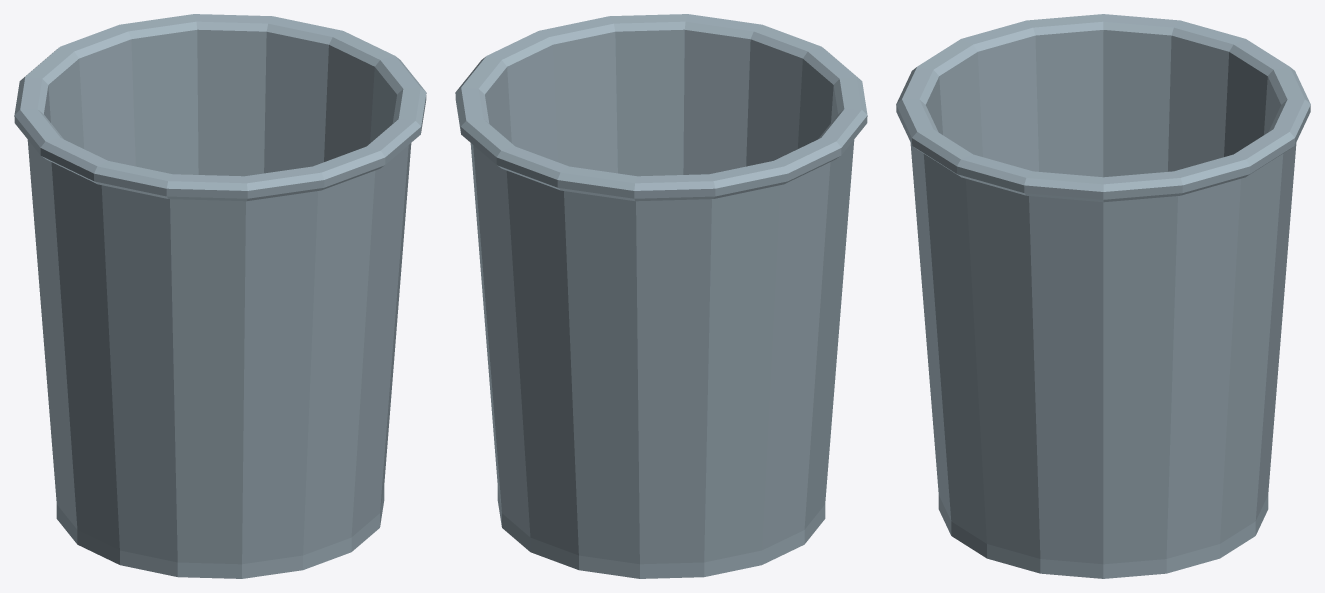
File: cup.fbx
The picture shows the model from 3 angles, left to right: view 1: azimuth 30°, elevation 25°; view 2: azimuth 150°, elevation 25°; view 3: azimuth 270°, elevation 25°; orthographic projection.
Parts seen in each view (by area): view 1: Cup; view 2: Cup; view 3: Cup.
Boxes of the visible parts, x1=… form: Cup: x1=14, y1=14, x2=426, y2=578; Cup: x1=455, y1=14, x2=867, y2=578; Cup: x1=896, y1=14, x2=1310, y2=578.
Bounding box in the file's own units: 256 × 280 × 256.
